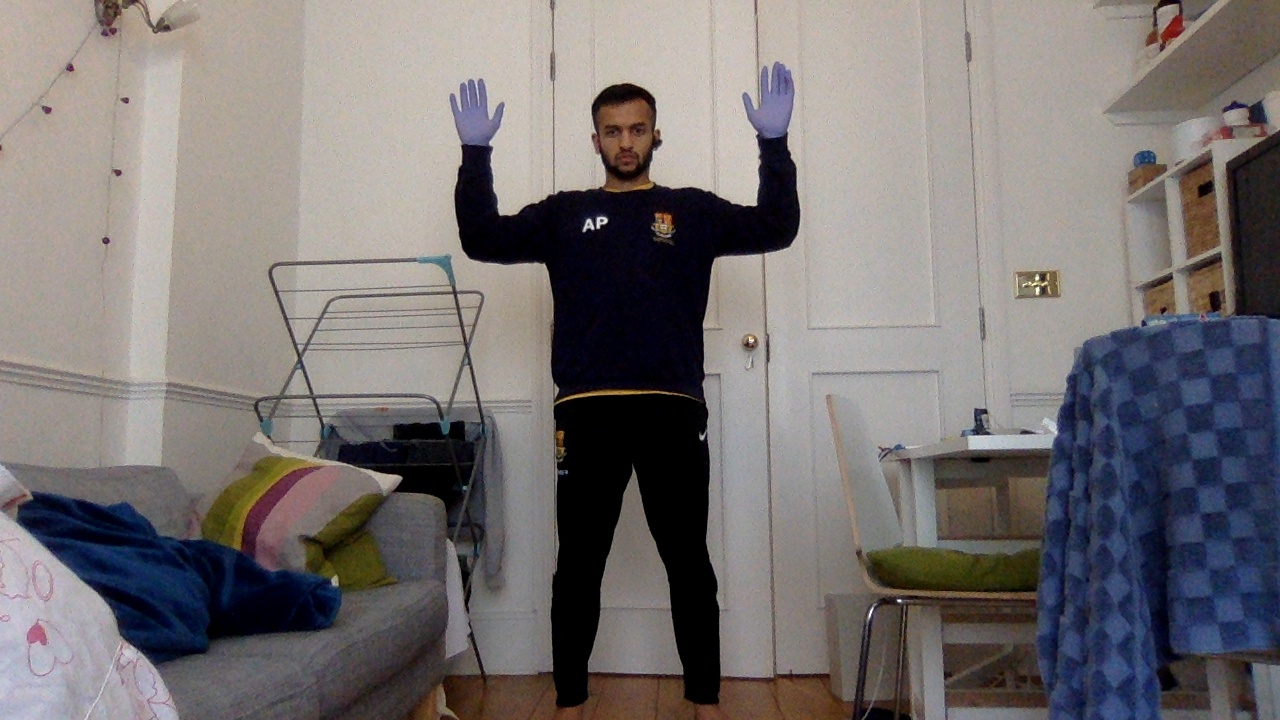glove: (740, 60, 799, 144), (450, 76, 507, 150)
